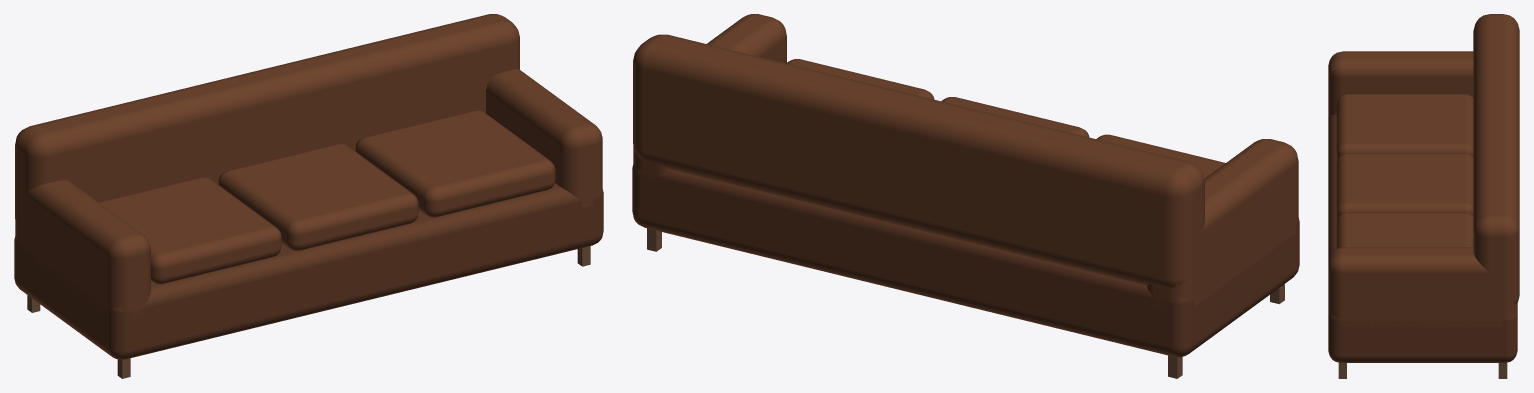
File: sofa-couro.glb
3 views of the same model, side by side, from view 1: azimuth 30°, elevation 25°; view 2: azimuth 150°, elevation 25°; view 3: azimuth 270°, elevation 25° (orthographic). The views are drawn at different scales.
Parts seen in each view (by area): view 1: sofa-couro_malha; view 2: sofa-couro_malha; view 3: sofa-couro_malha.
Boxes of the visible parts, x1,y1,x2,y2 form: sofa-couro_malha: (14,14,603,378); sofa-couro_malha: (632,14,1299,378); sofa-couro_malha: (1328,14,1519,378).
Size of the model in its own units: 2.4 by 0.85 by 0.91.
